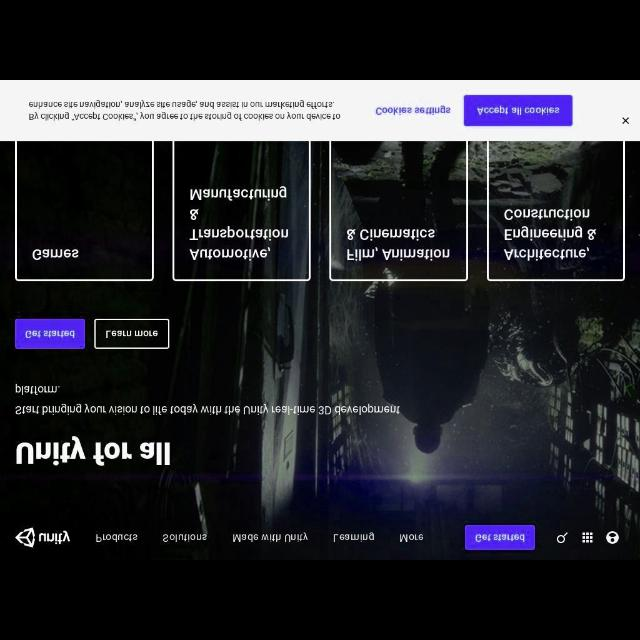backgroundimage: (0, 138, 638, 520)
icon: (606, 530, 620, 544), (555, 531, 569, 543), (620, 115, 632, 127), (582, 530, 592, 544)
iframe: (4, 80, 632, 140)
image: (13, 525, 71, 553)
link: (374, 104, 452, 118)
text: (13, 384, 401, 416), (188, 182, 290, 260), (27, 100, 341, 120), (502, 206, 600, 262), (344, 226, 452, 264), (16, 440, 172, 464), (231, 531, 307, 545), (476, 106, 560, 116), (474, 530, 526, 544), (26, 328, 76, 342), (30, 246, 80, 260), (330, 530, 376, 544), (106, 328, 158, 339), (95, 532, 139, 544), (164, 532, 208, 544), (398, 530, 426, 546)
textbutton: (464, 95, 574, 127), (94, 318, 170, 350), (14, 318, 86, 350), (463, 524, 537, 552)
toolbar: (1, 522, 640, 558)
